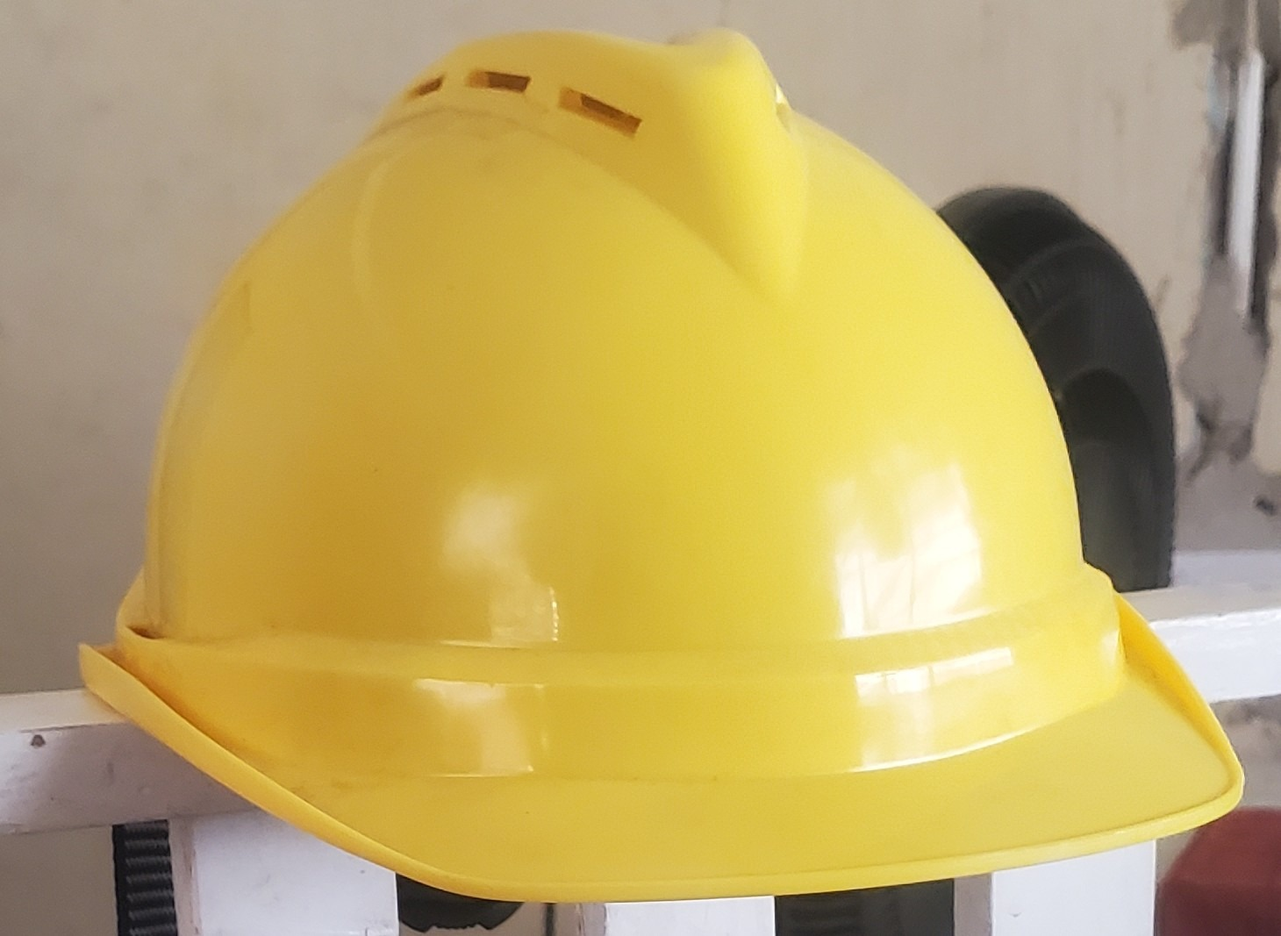helment: (75, 24, 1237, 930)
